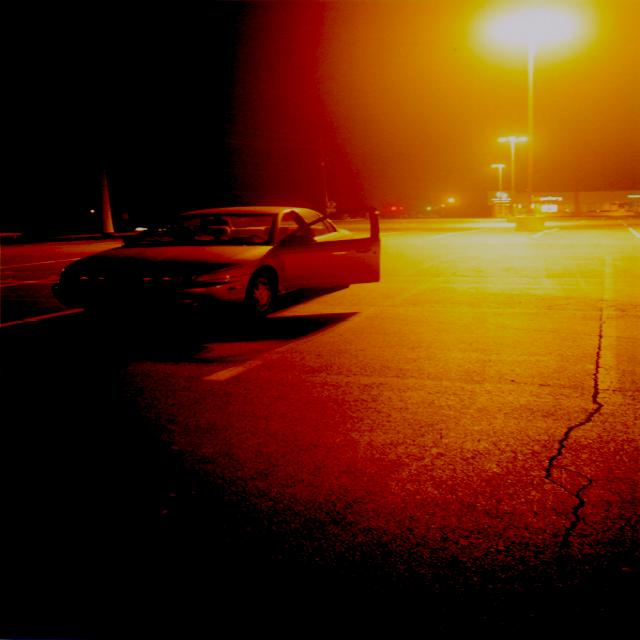Car: (50, 205, 416, 322)
